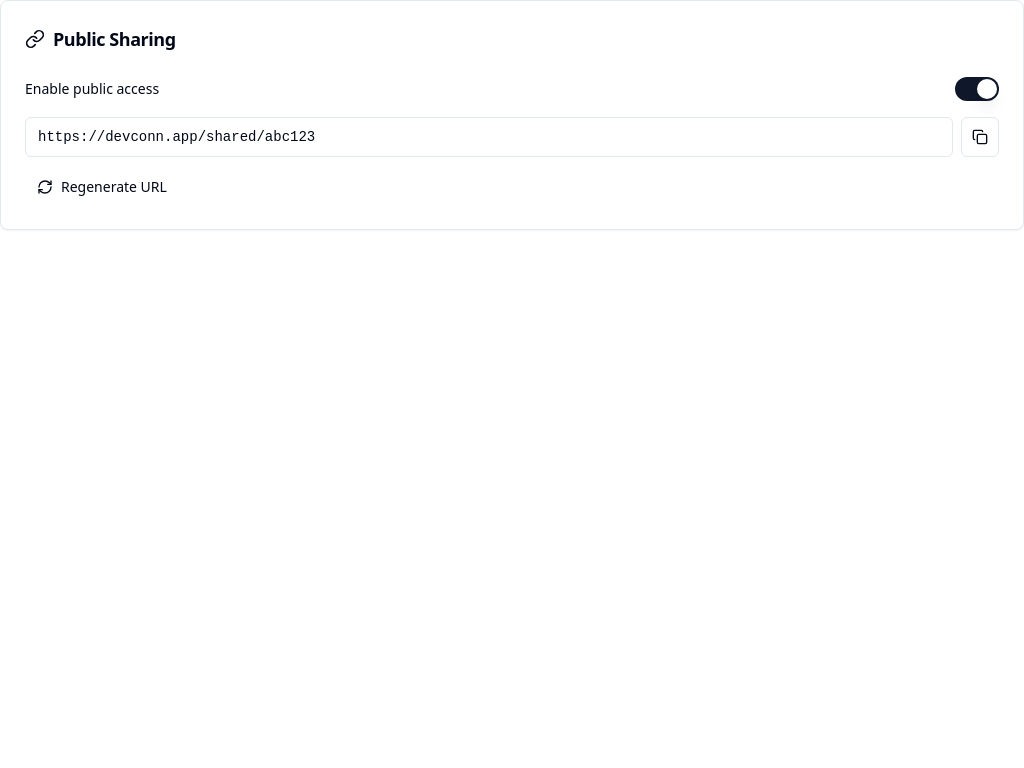
SharePanel › closes dialog when clicking Cancel
What coordinates should you click on to do the following:
click the button "Regenerate URL"
I would click on:
 (102, 187)
Its box is left=25, top=169, right=179, bottom=205.
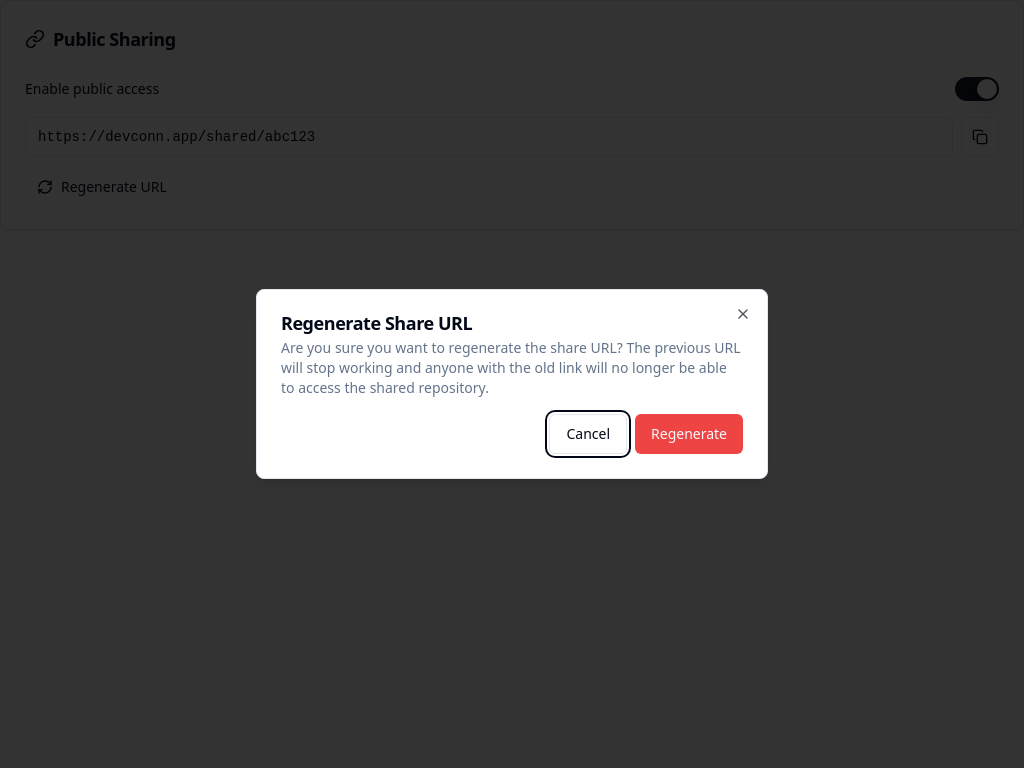
Result: the heading "Regenerate Share URL" is shown at left=281, top=311, right=472, bottom=335
What coordinates should you click on to do the following:
click the button "Cancel"
I would click on:
 (588, 434)
Its box is left=549, top=414, right=627, bottom=454.
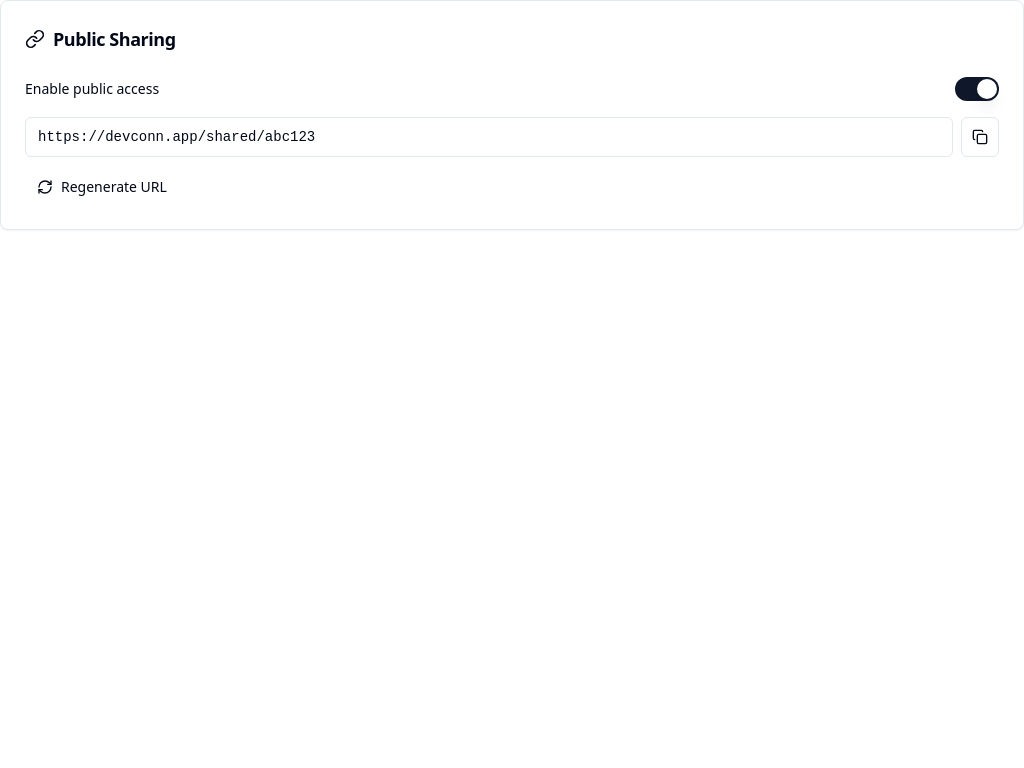
Result: the heading "Regenerate Share URL" is gone
